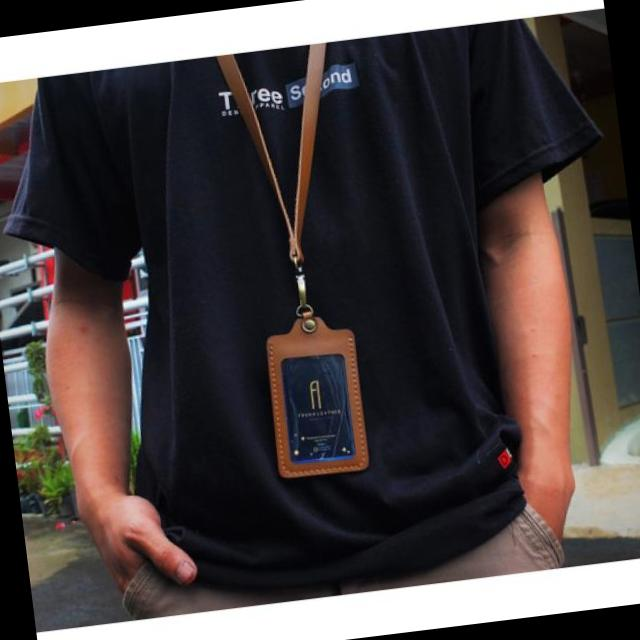id_card: (211, 41, 386, 492)
